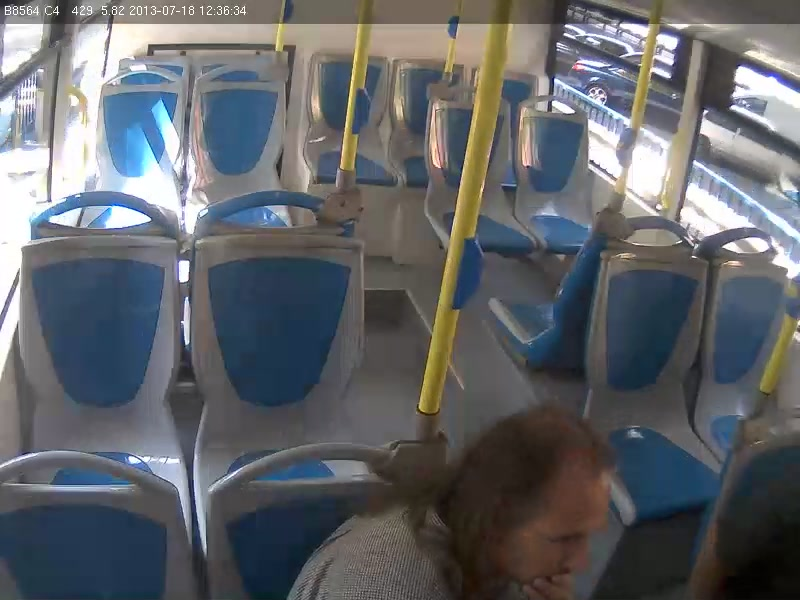Head: (452, 395, 621, 593)
